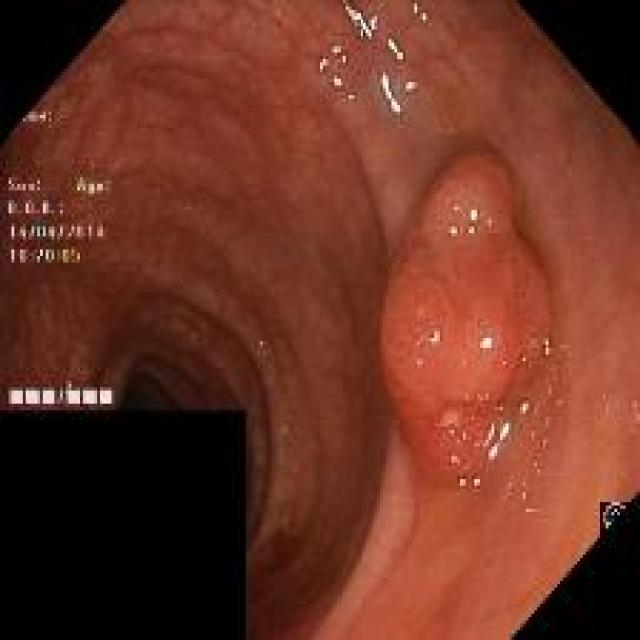Polyps: (382, 155, 552, 488)
